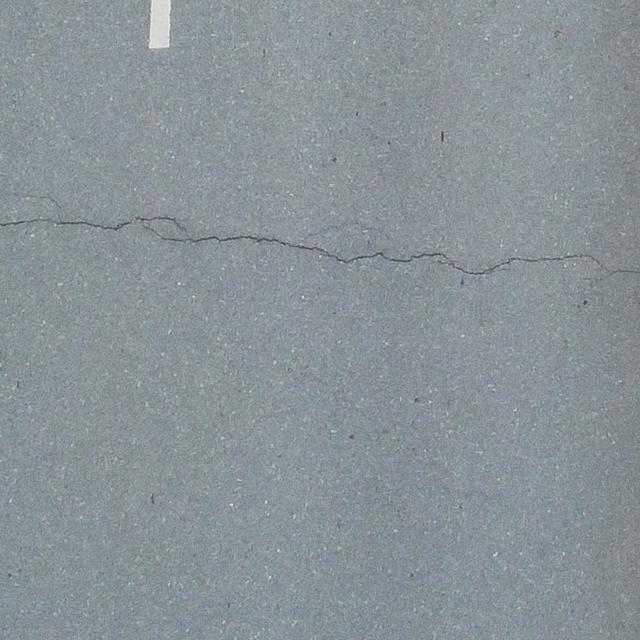TransverseCrack: (1, 212, 640, 274)
